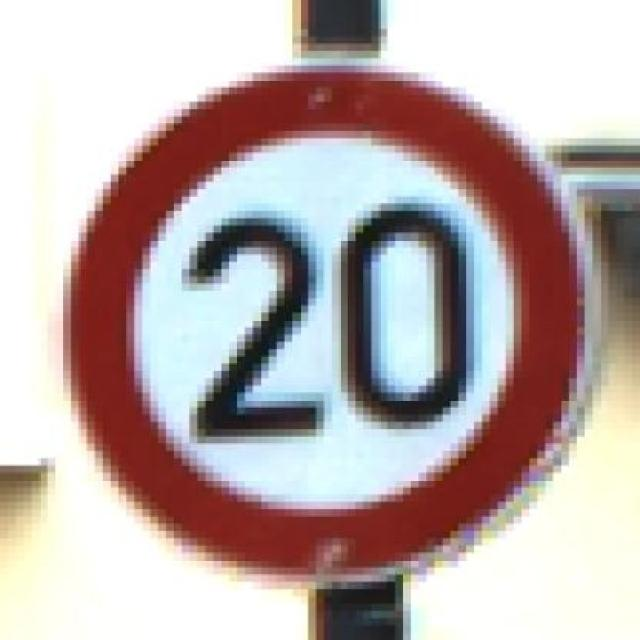forb_speed_over_20: (64, 65, 596, 578)
